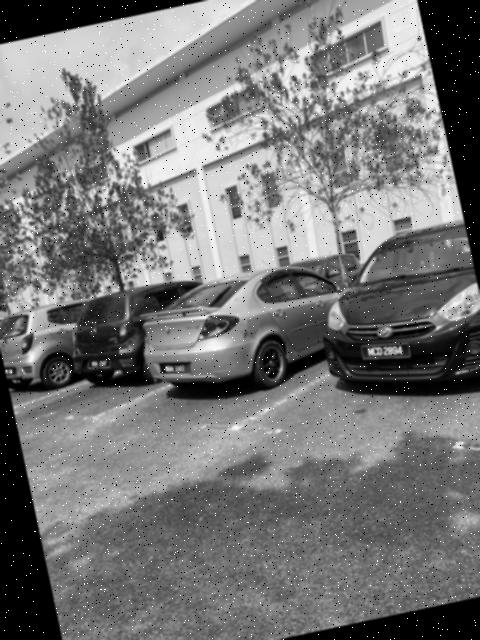License_Plate: (358, 336, 413, 367), (156, 352, 194, 384), (86, 354, 114, 372)
car: (129, 249, 375, 413), (307, 216, 480, 415), (63, 269, 232, 393), (1, 288, 126, 402)
